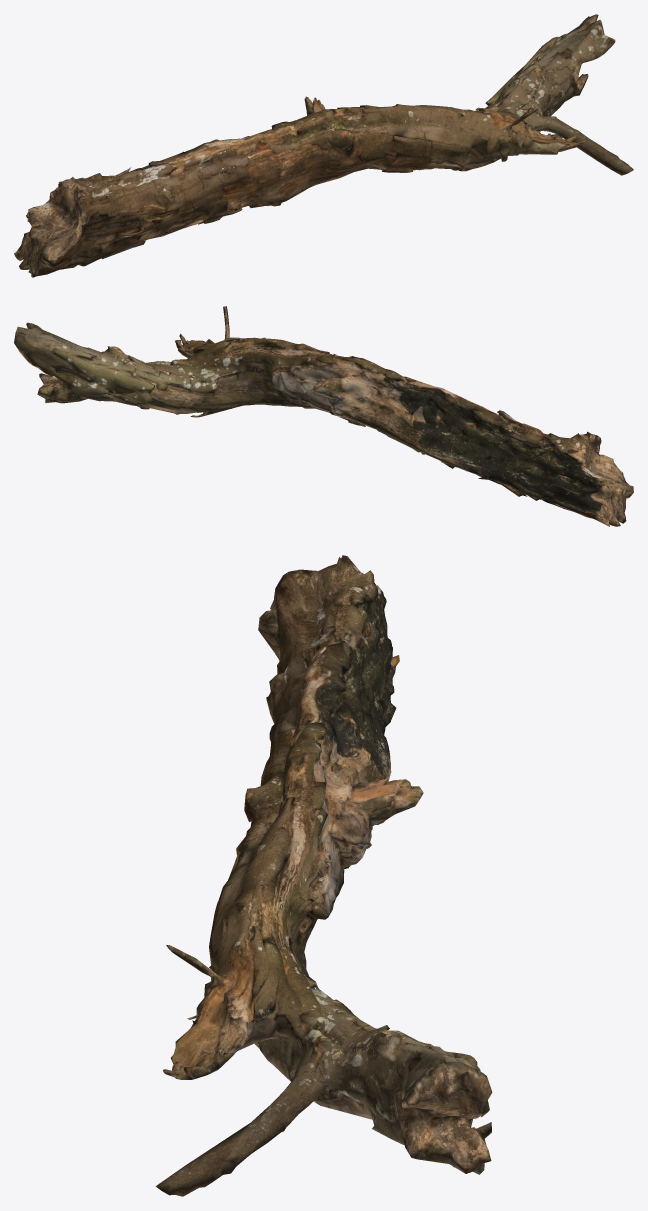
Rendered from deadfall.glb.
3 views of the same model, one above another, from view 1: azimuth 30°, elevation 25°; view 2: azimuth 150°, elevation 25°; view 3: azimuth 270°, elevation 25° (orthographic). The views are drawn at different scales.
Visible parts, largest first — view 1: dead_tree_trunk_02; view 2: dead_tree_trunk_02; view 3: dead_tree_trunk_02.
Part boxes in pixels (bbox=[...]): dead_tree_trunk_02: bbox=[14, 14, 633, 277]; dead_tree_trunk_02: bbox=[14, 306, 633, 526]; dead_tree_trunk_02: bbox=[155, 555, 492, 1196].
Size of the model in its own units: 0.9995 by 0.1615 by 0.2527.
1 material, 1 textured.
